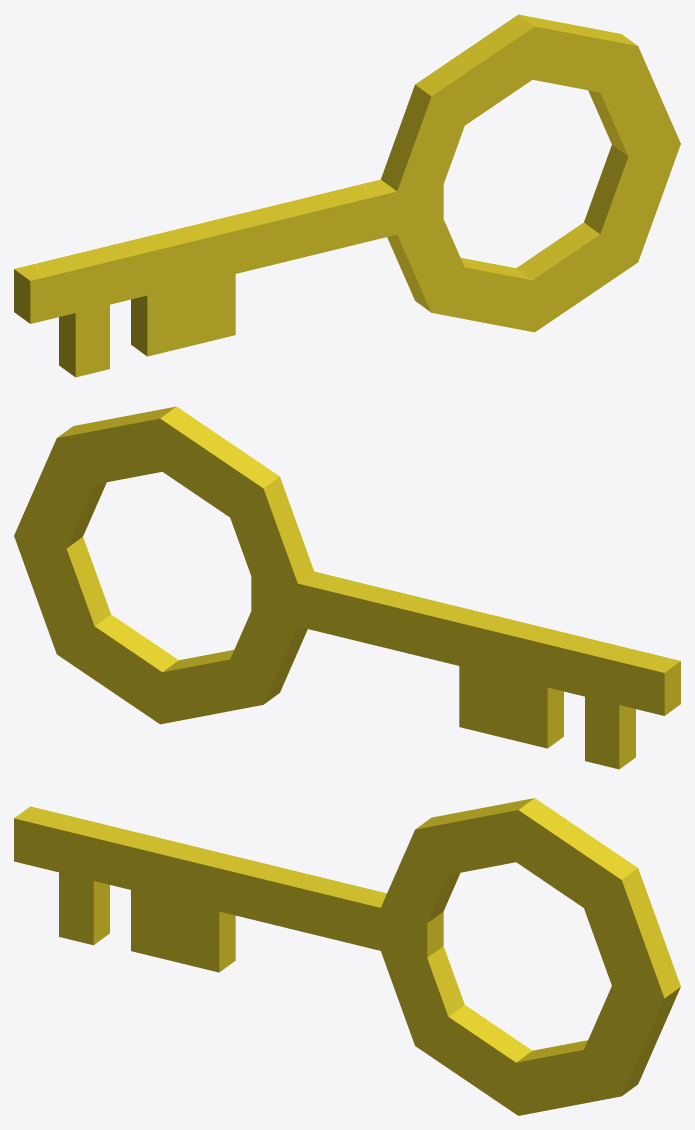
Rendered from key.glb.
3 views of the same model, one above another, from view 1: azimuth 30°, elevation 25°; view 2: azimuth 150°, elevation 25°; view 3: azimuth 330°, elevation 25° (orthographic).
Visible parts, largest first — view 1: key; view 2: key; view 3: key.
Part boxes in pixels (box(x1,y1,x2,y2)): key: box(14, 14, 680, 377); key: box(14, 406, 680, 769); key: box(14, 798, 680, 1115).
Bounding box in the file's own units: 2.97 × 1.34 × 0.13.
